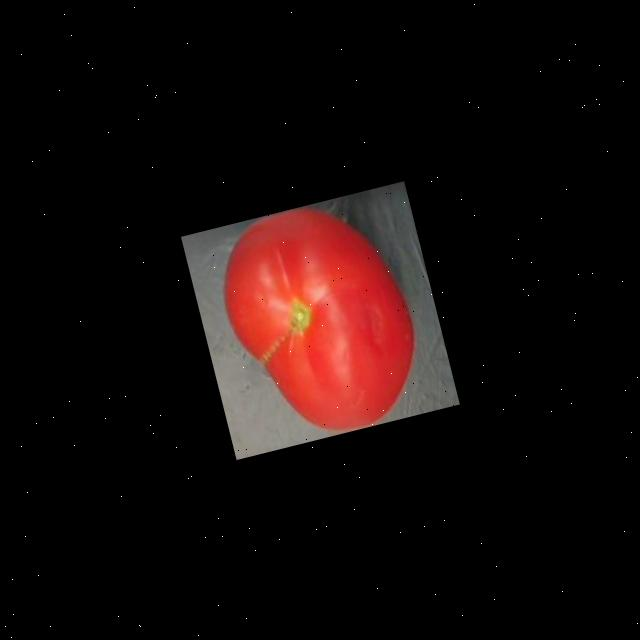tomato: (199, 186, 437, 454)
